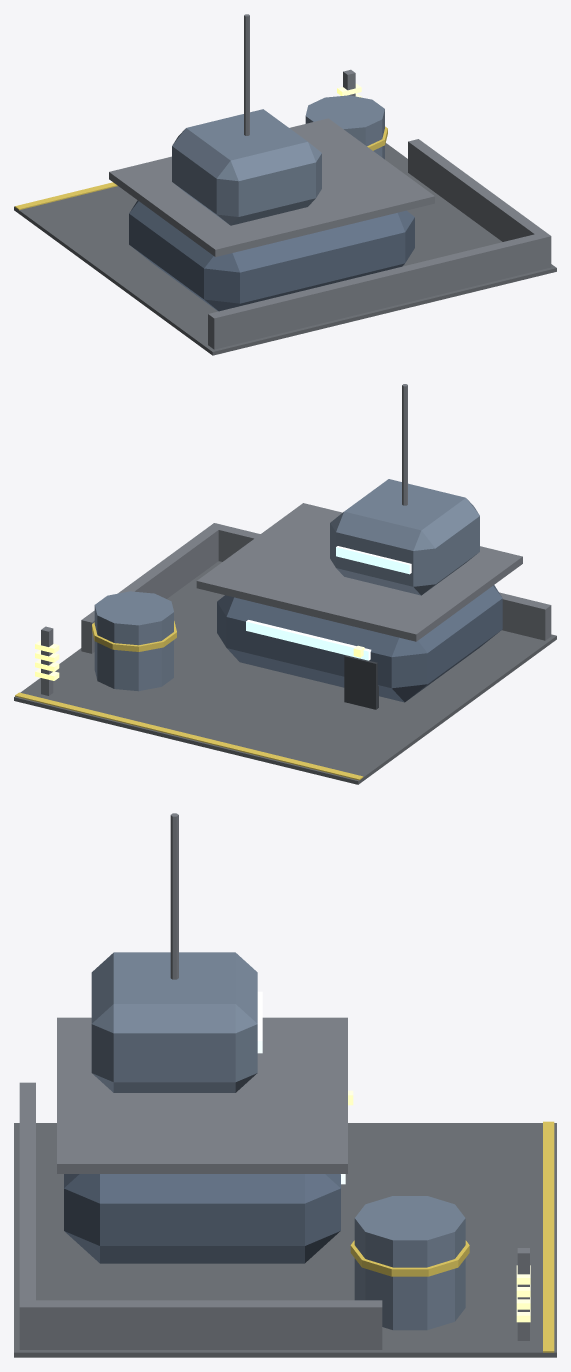
File: zone_low_2_t4.glb
The picture shows the model from 3 angles, top to bottom: view 1: azimuth 30°, elevation 25°; view 2: azimuth 150°, elevation 25°; view 3: azimuth 270°, elevation 25°; orthographic projection. The views are drawn at different scales.
Visible parts, largest first — view 1: zone_low_2_t4, detail; view 2: zone_low_2_t4, detail; view 3: zone_low_2_t4, detail.
Boxes of the visible parts, x1=… form: zone_low_2_t4: x1=14, y1=95, x2=556, y2=355; detail: x1=15, y1=14, x2=387, y2=210; zone_low_2_t4: x1=14, y1=479, x2=556, y2=784; detail: x1=15, y1=384, x2=407, y2=780; zone_low_2_t4: x1=14, y1=952, x2=556, y2=1357; detail: x1=170, y1=813, x2=554, y2=1352.
Size of the model in its own units: 19.6 by 14.94 by 19.6.
